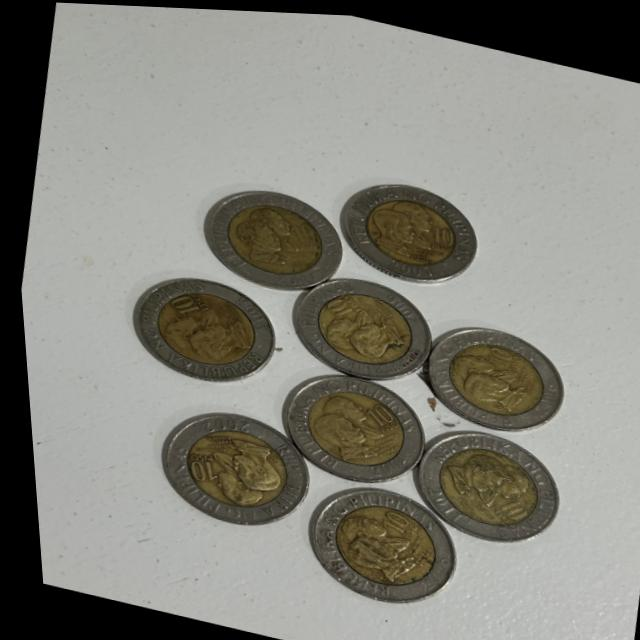10_Old_Front: (168, 439, 232, 494), (356, 398, 403, 435)
